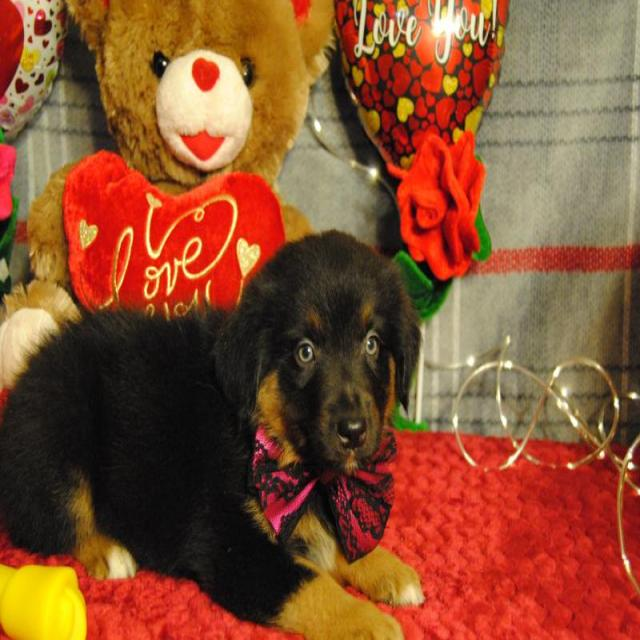dog: (207, 183, 442, 518)
